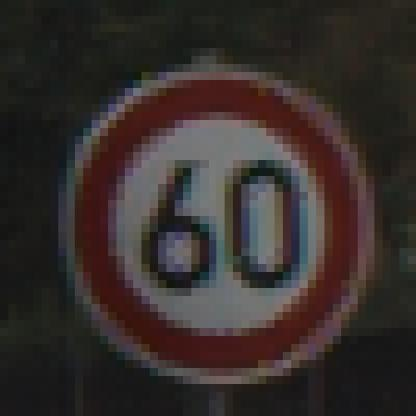Speed Limit 60: (73, 71, 362, 383)
